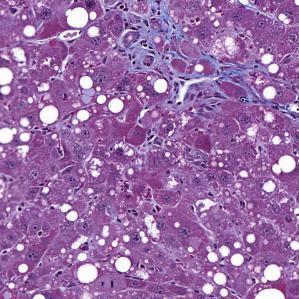fibrosis: (114, 4, 190, 73)
